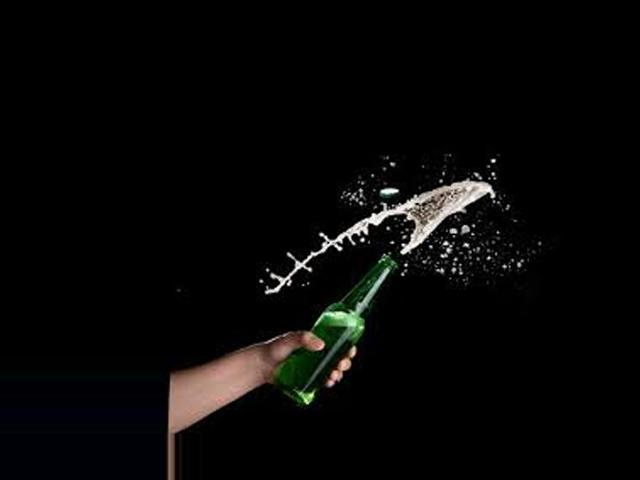beer: (273, 256, 397, 408)
